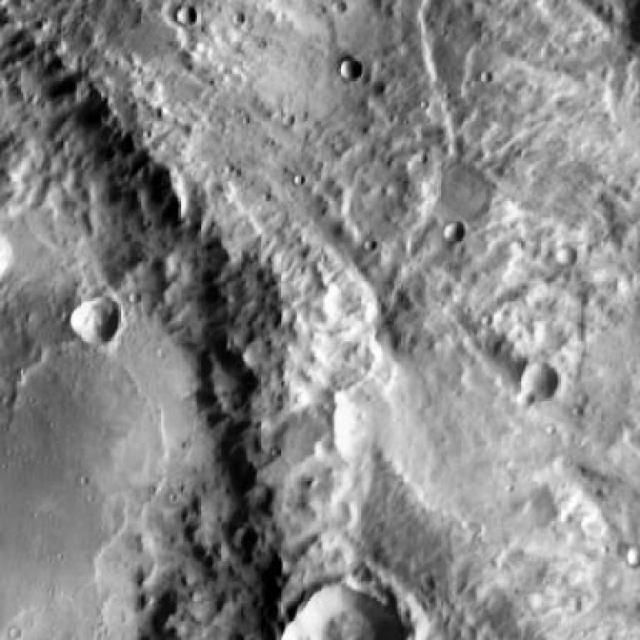crater: (378, 338, 560, 516), (430, 164, 485, 219), (64, 291, 119, 344), (516, 359, 552, 396), (230, 526, 252, 549), (618, 542, 640, 564), (172, 5, 193, 26), (336, 58, 356, 78), (512, 387, 531, 405), (440, 220, 458, 238), (558, 250, 576, 267)
